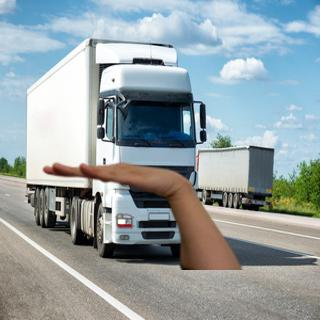WAIT: (39, 154, 181, 197)
